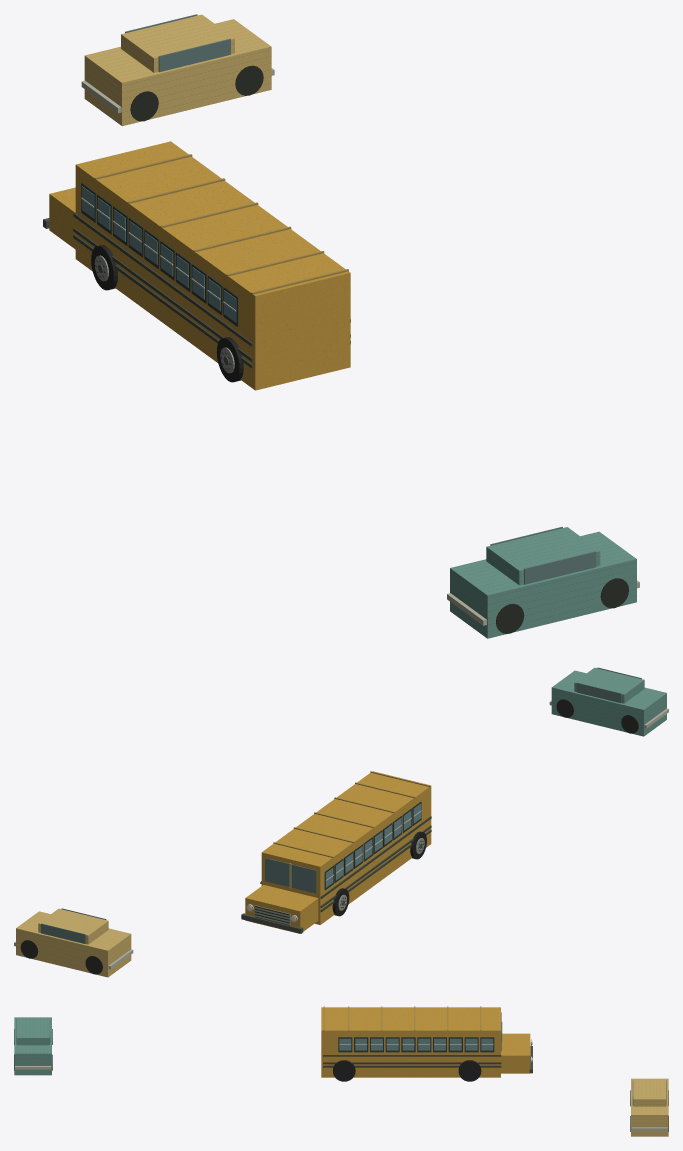
File: vehicles-current.glb
The picture shows the model from 3 angles, top to bottom: view 1: azimuth 30°, elevation 25°; view 2: azimuth 150°, elevation 25°; view 3: azimuth 270°, elevation 25°; orthographic projection. The views are drawn at different scales.
Visible parts, largest first — view 1: Vehicle_bus_Town_paint, Vehicle_north_Town_siding, Vehicle_south_Town_siding, Vehicle_bus_Town_rubber, Vehicle_bus_Town_glass, Vehicle_south_Town_glass, Vehicle_north_Town_glass, Vehicle_north_Town_rubber, Vehicle_south_Town_rubber; view 2: Vehicle_bus_Town_paint, Vehicle_south_Town_siding, Vehicle_north_Town_siding, Vehicle_bus_Town_rubber, Vehicle_bus_Town_glass, Vehicle_bus_Town_metal, Vehicle_south_Town_glass, Vehicle_north_Town_glass, Vehicle_north_Town_rubber, Vehicle_south_Town_rubber; view 3: Vehicle_bus_Town_paint, Vehicle_bus_Town_rubber, Vehicle_south_Town_siding, Vehicle_north_Town_siding, Vehicle_bus_Town_glass.
Part boxes in pixels (x1,y1,x2,y2): Vehicle_bus_Town_paint: [49, 141, 350, 390]; Vehicle_north_Town_siding: [84, 14, 271, 126]; Vehicle_south_Town_siding: [450, 527, 636, 638]; Vehicle_bus_Town_rubber: [43, 183, 350, 382]; Vehicle_bus_Town_glass: [82, 186, 236, 322]; Vehicle_south_Town_glass: [490, 527, 596, 584]; Vehicle_north_Town_glass: [125, 14, 230, 72]; Vehicle_north_Town_rubber: [130, 65, 263, 121]; Vehicle_south_Town_rubber: [496, 578, 628, 633]; Vehicle_bus_Town_paint: [245, 771, 431, 933]; Vehicle_south_Town_siding: [551, 667, 666, 736]; Vehicle_north_Town_siding: [16, 908, 131, 977]; Vehicle_bus_Town_rubber: [241, 801, 431, 933]; Vehicle_bus_Town_glass: [265, 803, 421, 893]; Vehicle_bus_Town_metal: [246, 838, 424, 925]; Vehicle_south_Town_glass: [576, 667, 641, 703]; Vehicle_north_Town_glass: [41, 908, 106, 943]; Vehicle_north_Town_rubber: [20, 940, 102, 974]; Vehicle_south_Town_rubber: [556, 699, 638, 733]; Vehicle_bus_Town_paint: [321, 1006, 530, 1077]; Vehicle_bus_Town_rubber: [323, 1037, 532, 1081]; Vehicle_south_Town_siding: [14, 1017, 51, 1075]; Vehicle_north_Town_siding: [631, 1078, 668, 1136]; Vehicle_bus_Town_glass: [339, 1012, 501, 1051].
Size of the model in its own units: 12.83 by 3.07 by 35.7.
6 materials, 2 textured.
